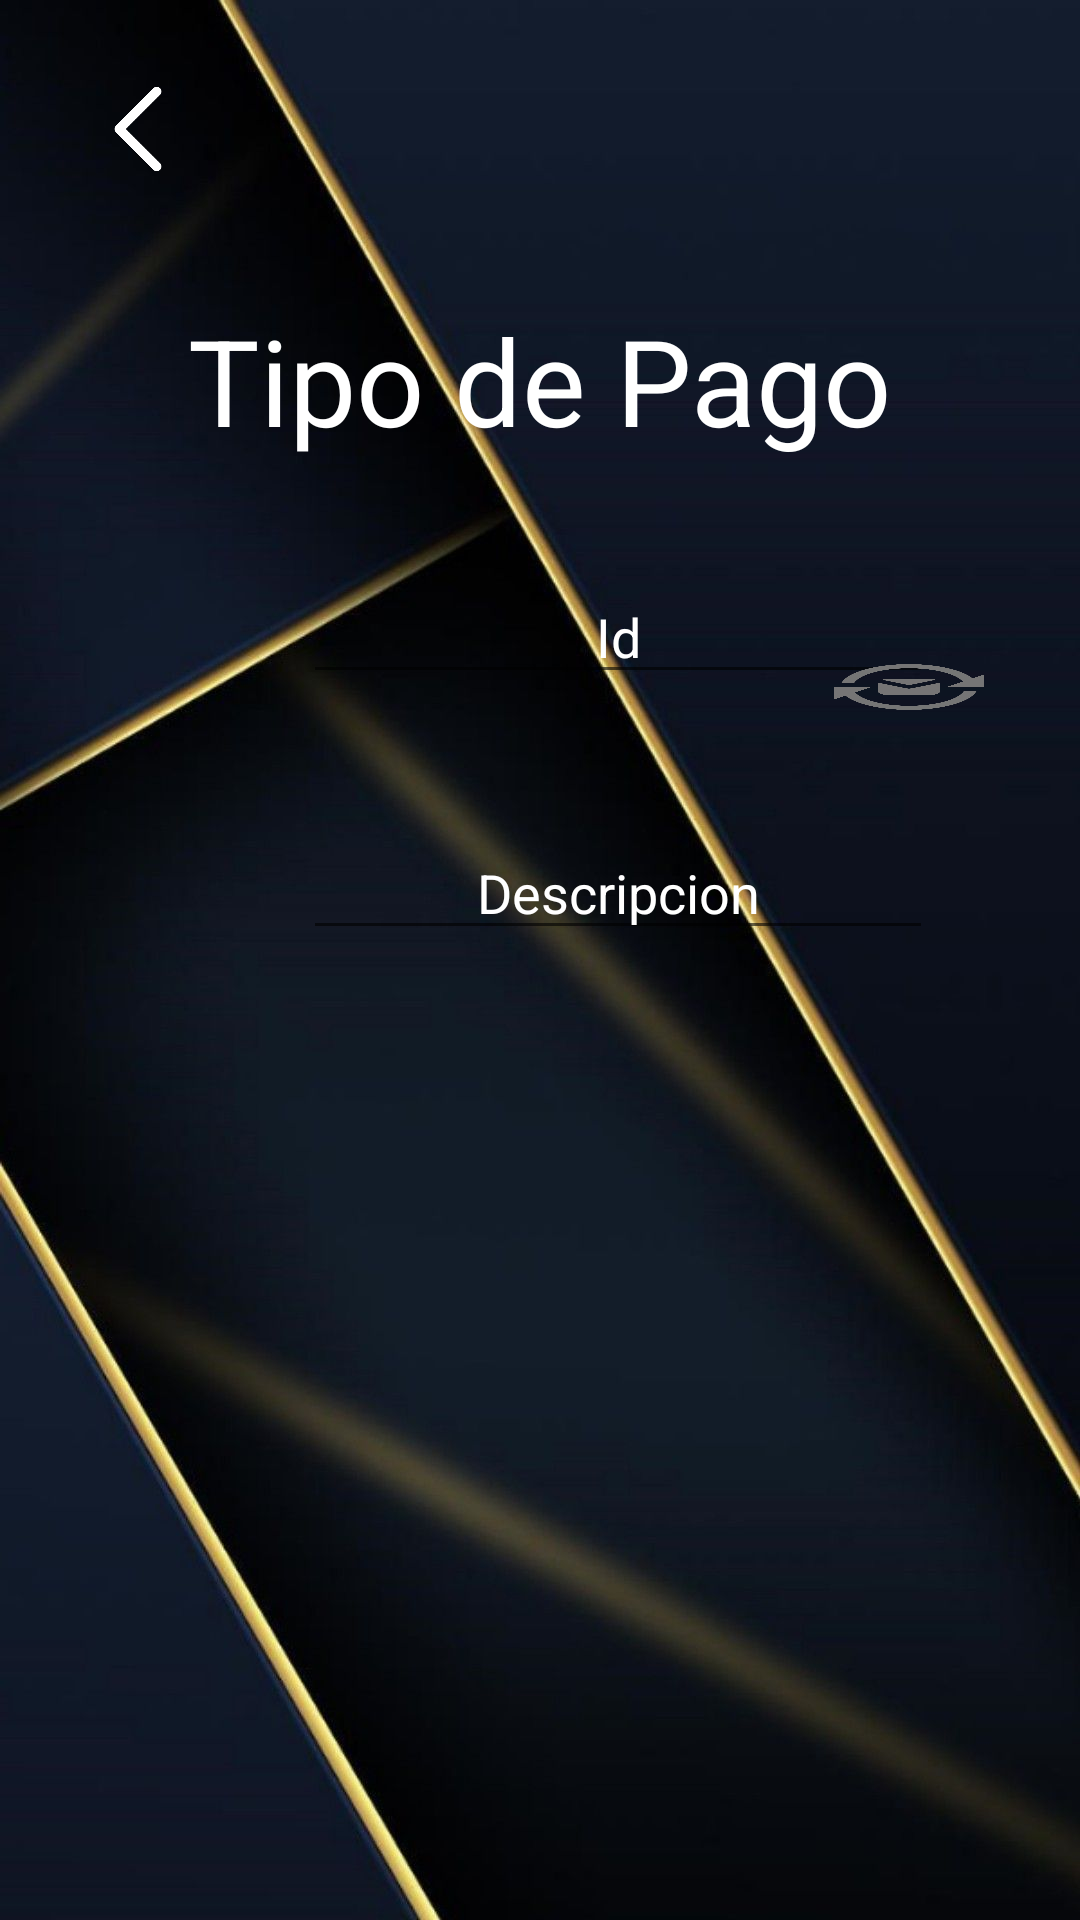

Icons on this 1080x1920 Android screen, each with its box as (x1, y1, x2, y2):
actualizar: (834, 664, 984, 710)
